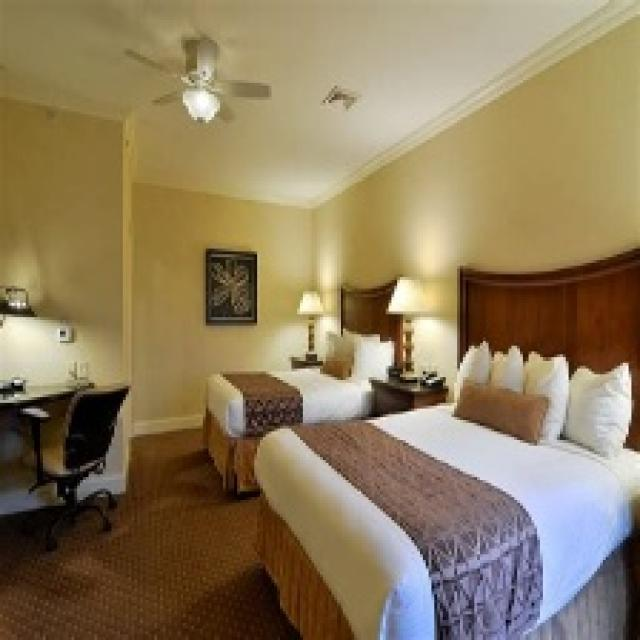Bed: (252, 237, 637, 637), (200, 274, 406, 497)
